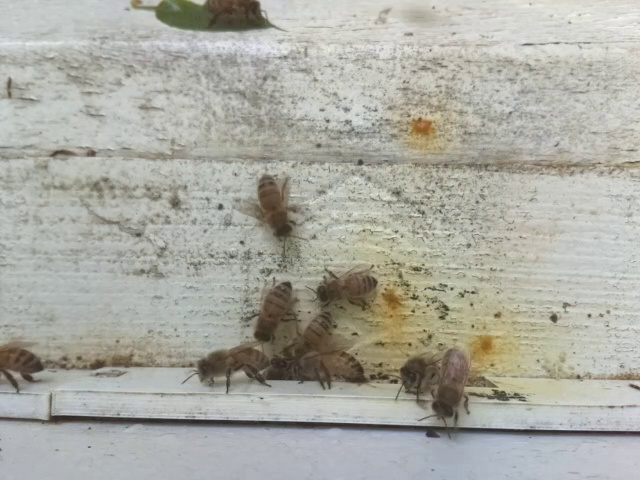bee: (227, 163, 314, 248), (182, 341, 284, 390), (427, 338, 472, 441), (297, 264, 392, 310), (251, 272, 304, 341), (293, 350, 375, 392), (1, 332, 51, 389), (394, 342, 437, 402), (295, 309, 338, 356)
